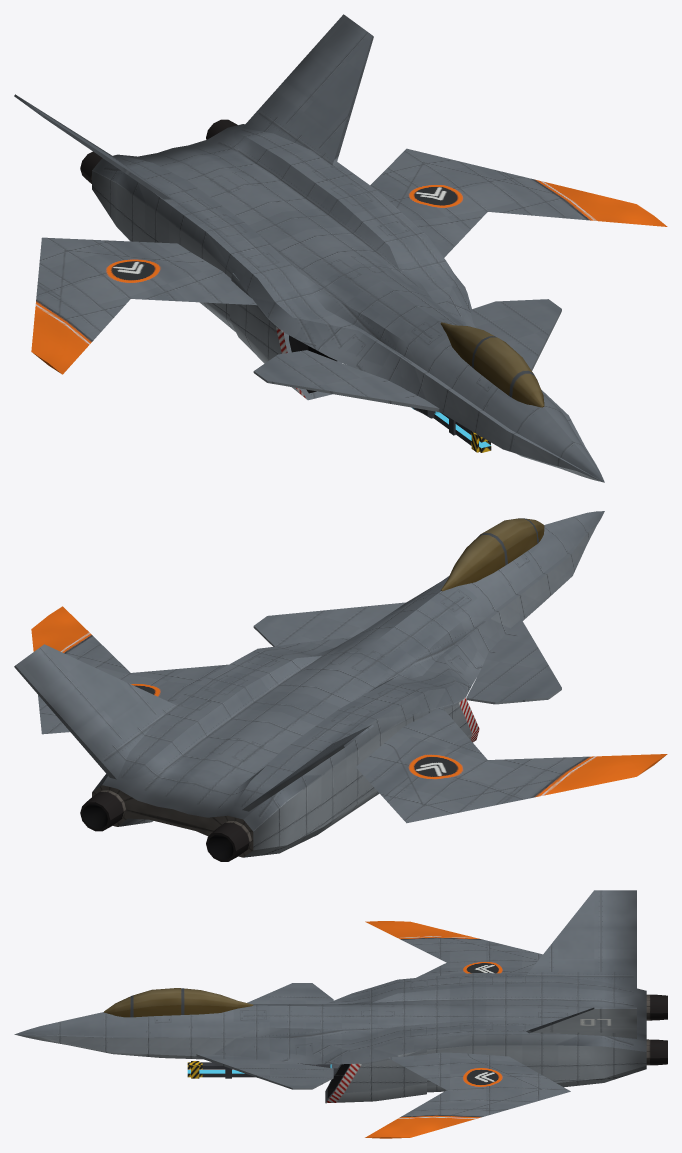
The model's file is ACO_XFW.fbx.
3 renders of one model, top to bottom at view 1: azimuth 30°, elevation 25°; view 2: azimuth 150°, elevation 25°; view 3: azimuth 270°, elevation 25°, orthographic. The views are drawn at different scales.
Visible parts, largest first — view 1: ACO_XFW; view 2: ACO_XFW; view 3: ACO_XFW.
Part boxes in pixels (x1,y1,x2,y2): ACO_XFW: [14, 14, 667, 482]; ACO_XFW: [14, 511, 667, 861]; ACO_XFW: [14, 890, 667, 1138].
Size of the model in its own units: 15.6 by 4.29 by 19.95.
Materials: 2 (2 with a texture image).
